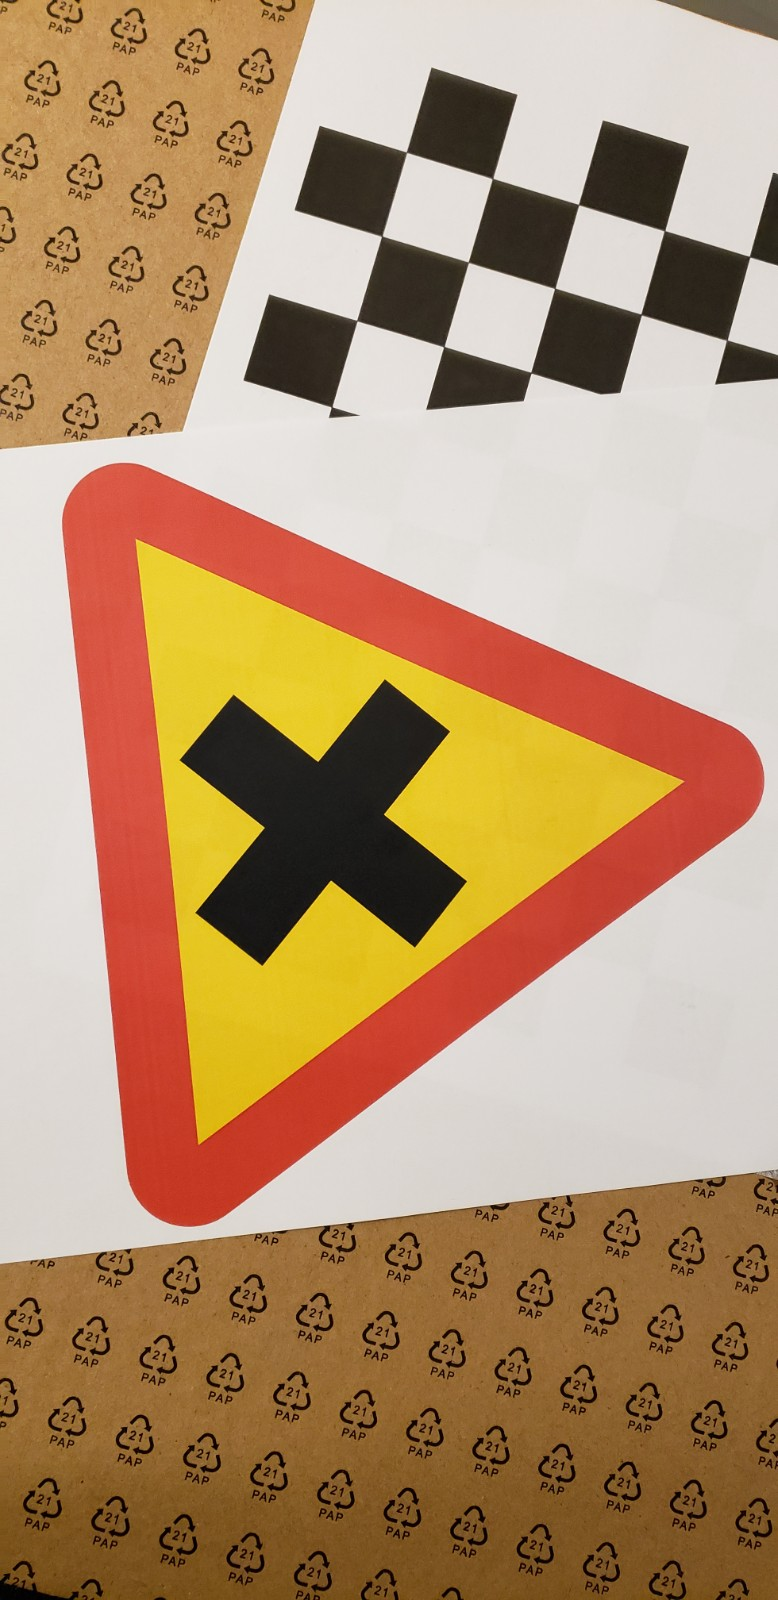junction: (17, 422, 778, 1253)
